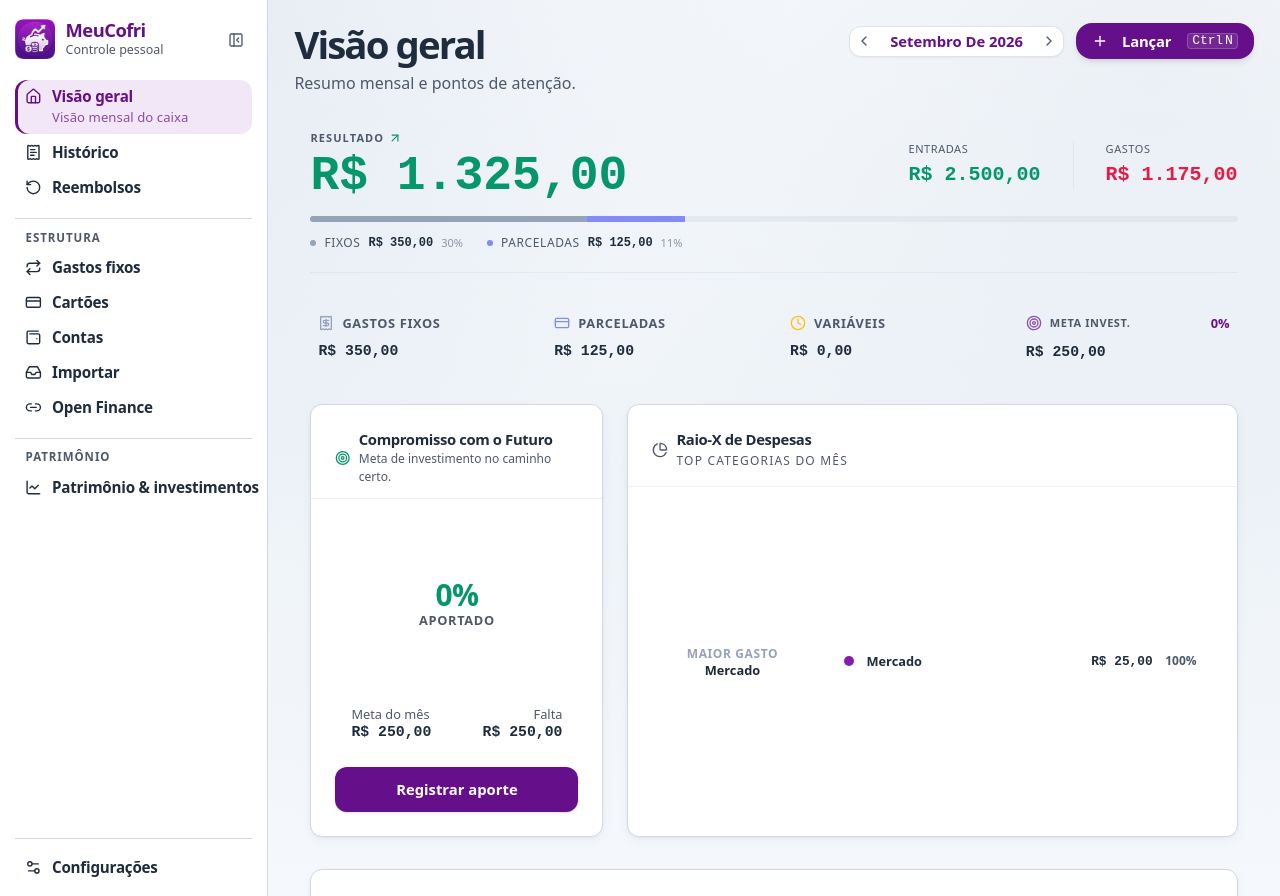
Test: UI consistency and cards overview › uses tighter shell copy and removes duplicate local headers
Expected: the heading "Visão geral" is shown, [294, 18, 484, 70]
Expected: the text "Resumo mensal e pontos de atenção." is shown, [294, 71, 576, 97]
What coordinates should you click on to do the following:
click the button "Contas"
I would click on:
 (134, 337)
Its box is [15, 321, 252, 354].
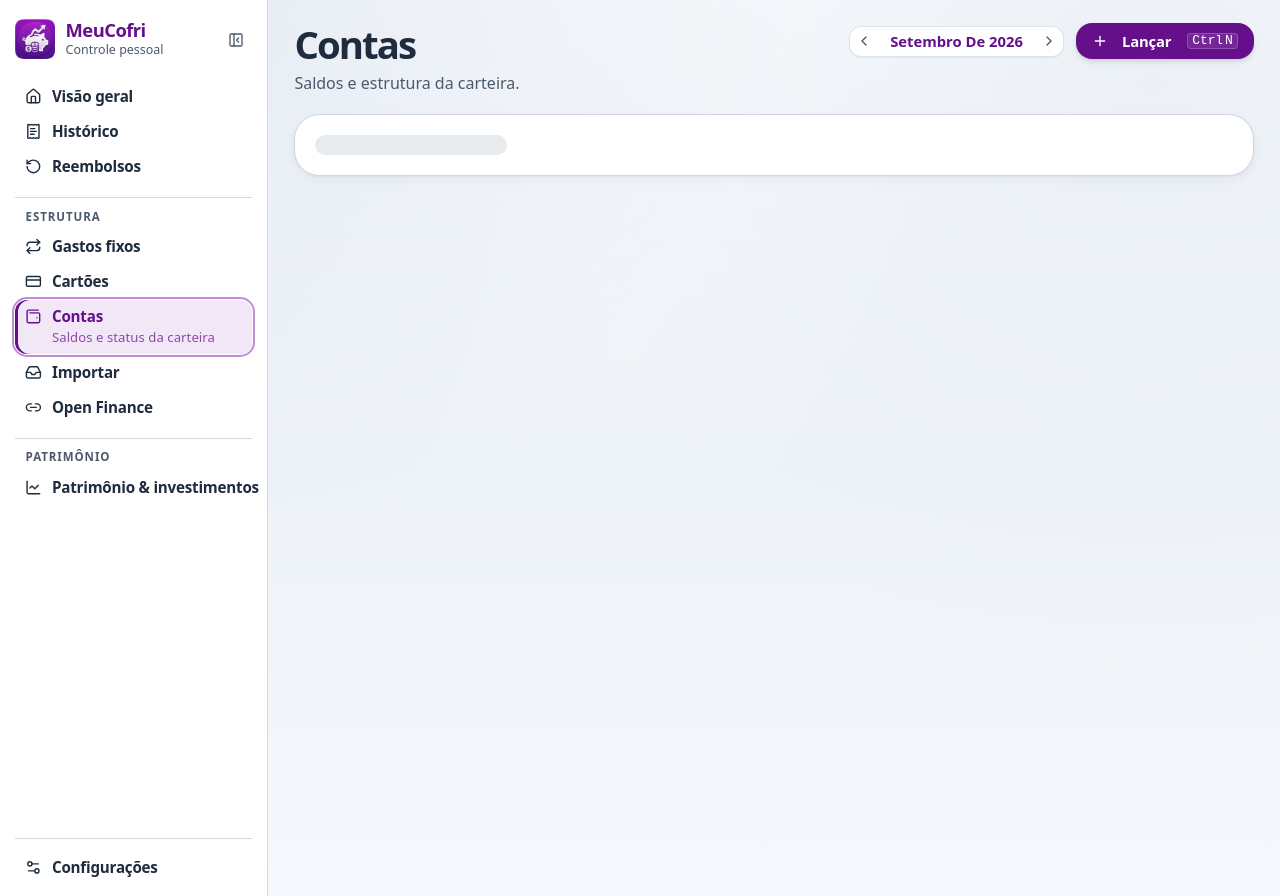
Expected: the button "Configurações" is shown, [15, 850, 252, 884]
Expected: the heading "Contas" is shown, [294, 18, 415, 70]
What coordinates should you click on to do the following:
click the button "Histórico"
I would click on:
 (134, 132)
Its box is [15, 115, 252, 148].
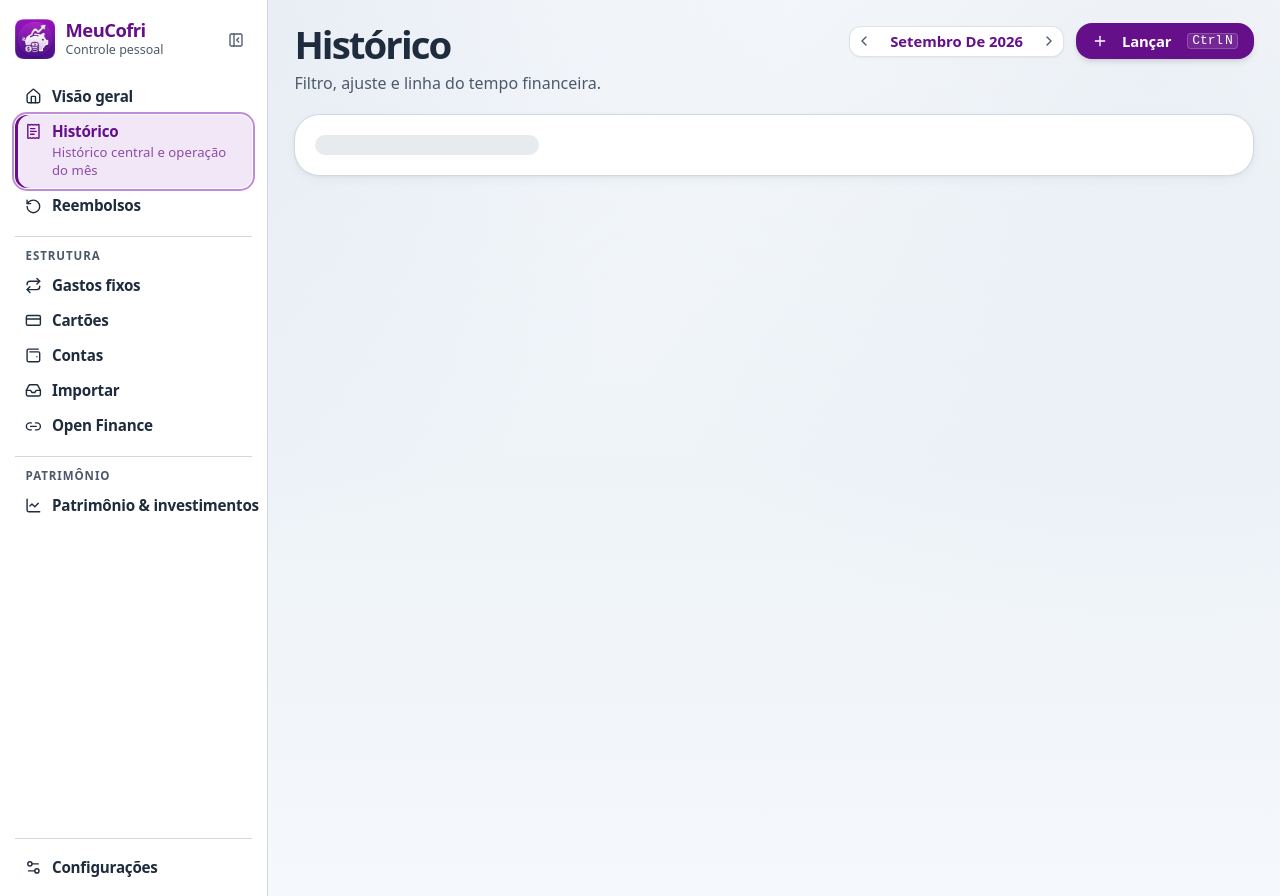
What coordinates should you click on to do the following:
click the button "Lançar Ctrl N"
I would click on:
 (1165, 41)
Its box is [1076, 23, 1254, 59].
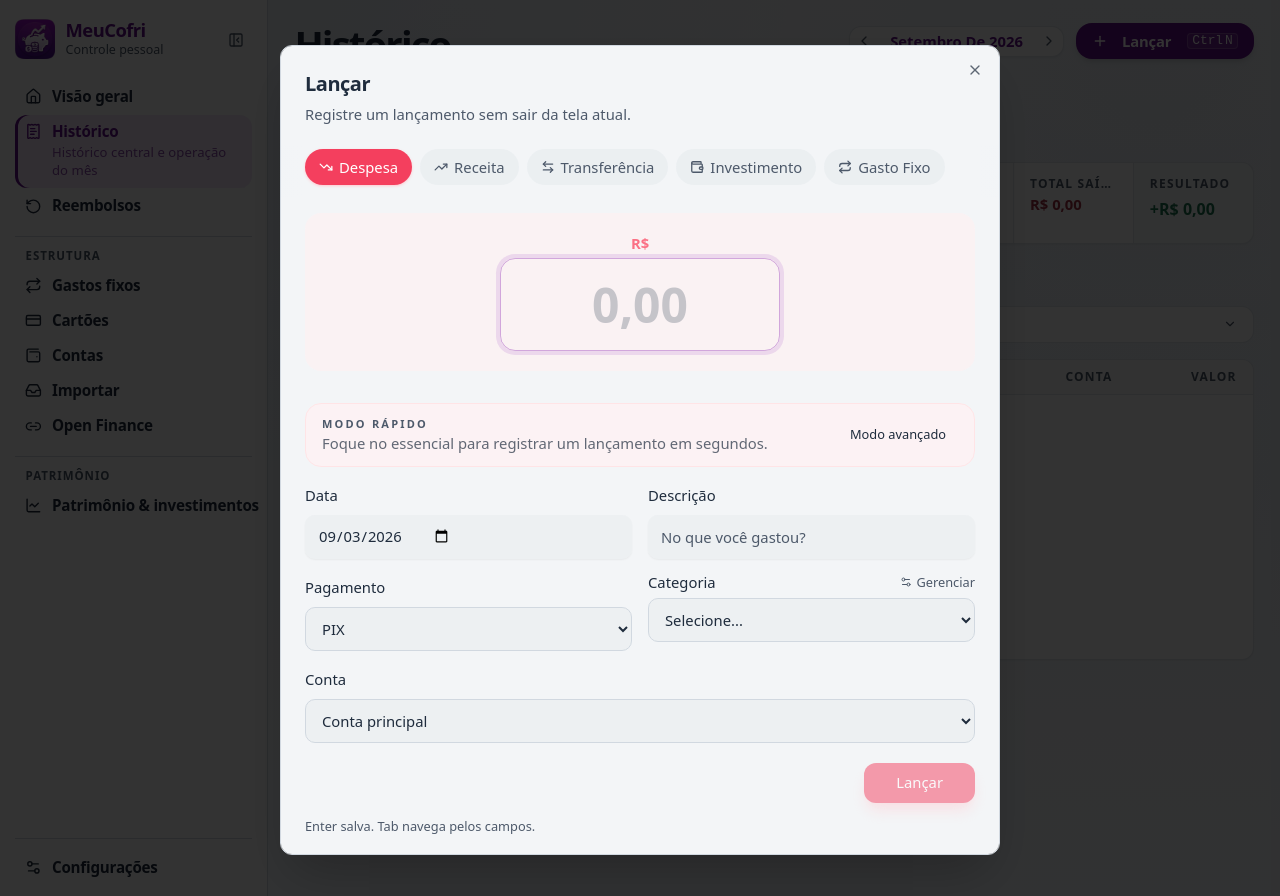
Expected: the dialog is shown, [280, 45, 1000, 855]
